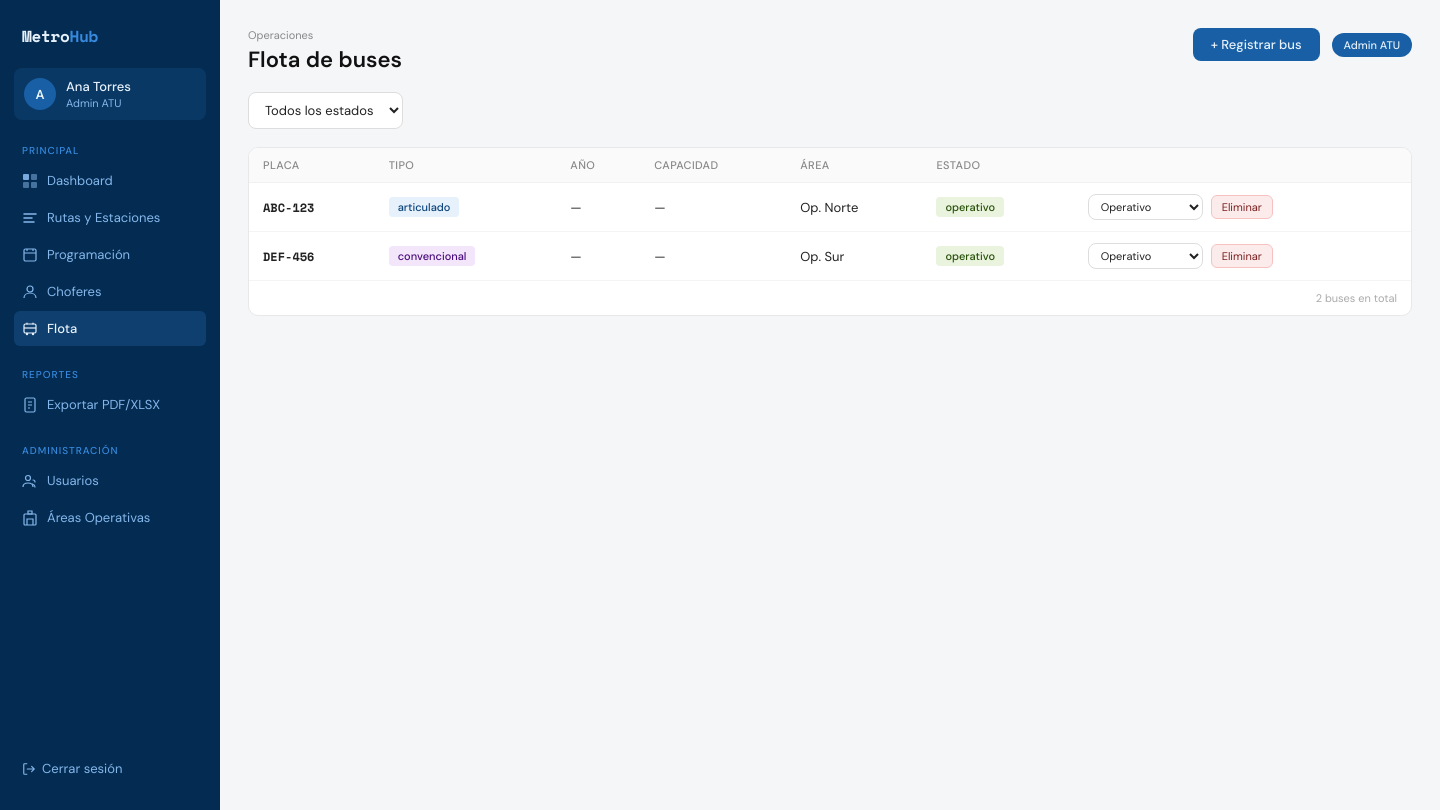
Test: Buses (RF09 — flota) › valida placa y área obligatorios al registrar
The width and height of the screenshot is (1440, 810).
Expected: the text "ABC-123" is shown, x1=263 y1=198 x2=314 y2=216
Click the button "+ Registrar bus" at (1256, 44), box x1=1193 y1=28 x2=1320 y2=61
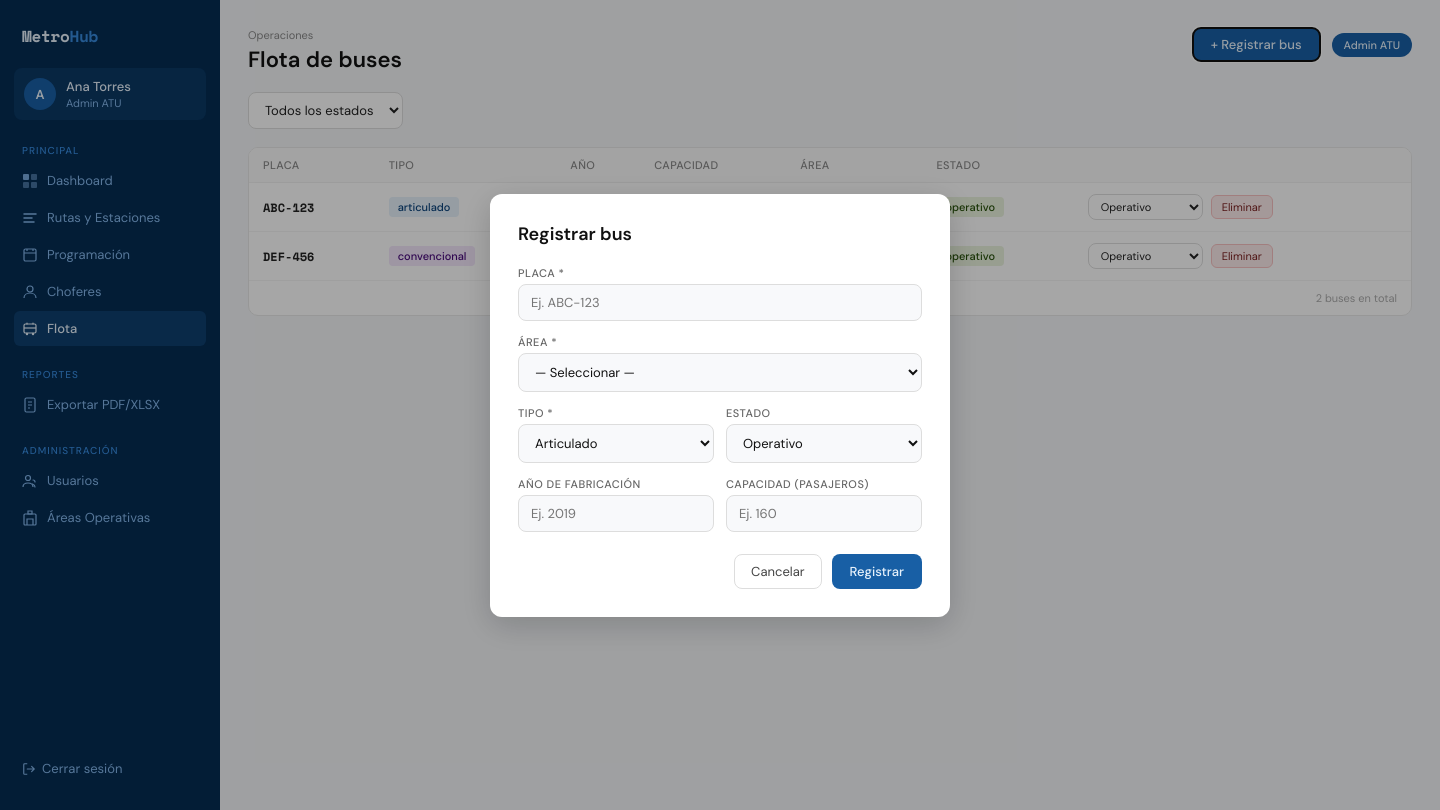
Click the button "Registrar" at (877, 571), box x1=832 y1=554 x2=922 y2=588
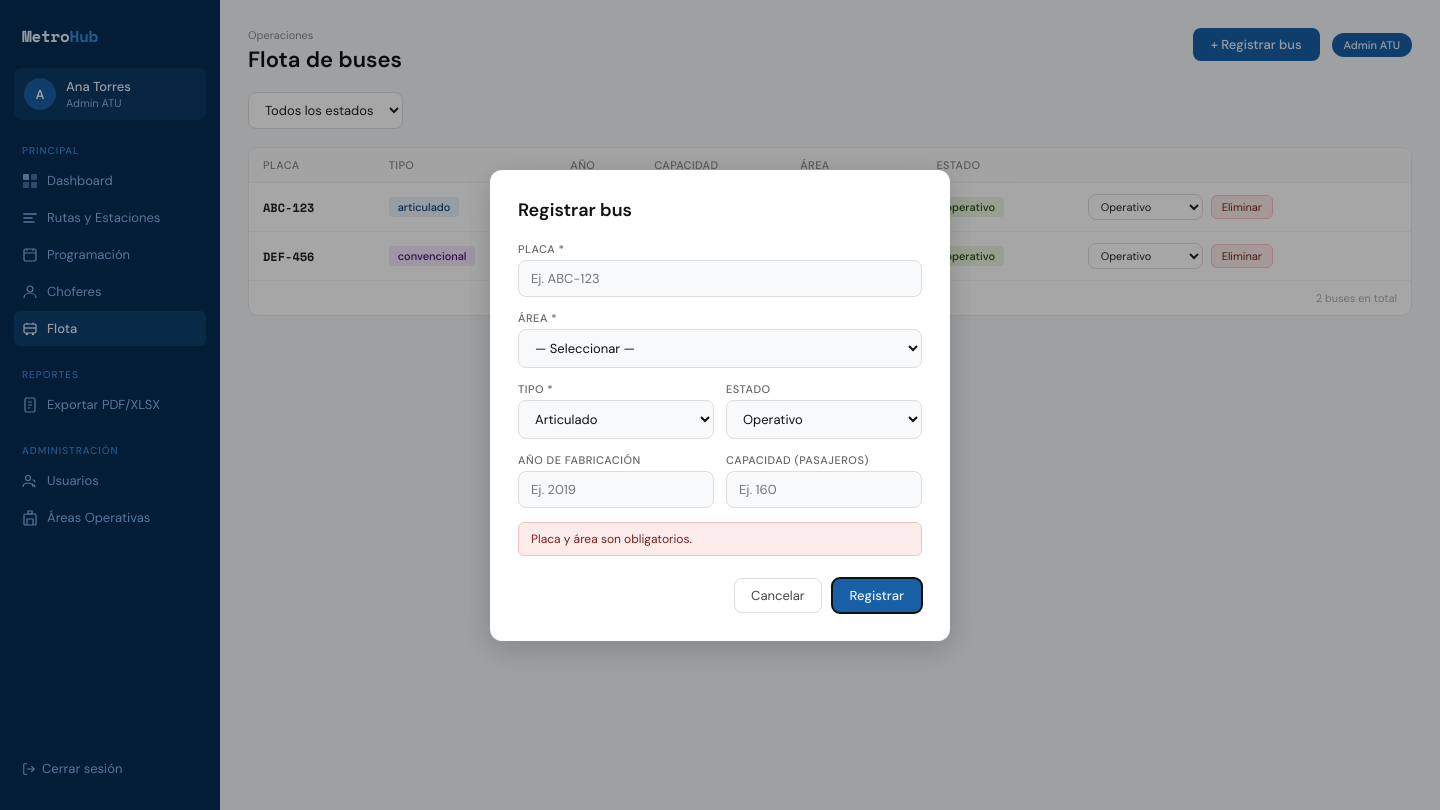
Expected: the text "Placa y área son obligatorios." is shown, x1=531 y1=530 x2=692 y2=546
